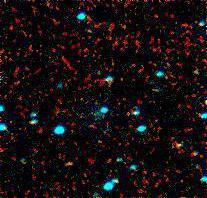star: (55, 148, 85, 178)
